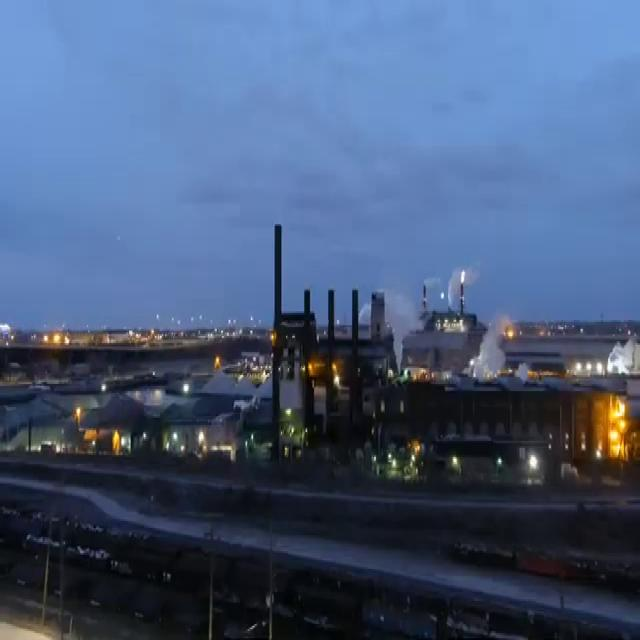smoke: (375, 272, 479, 364), (471, 313, 527, 377)
